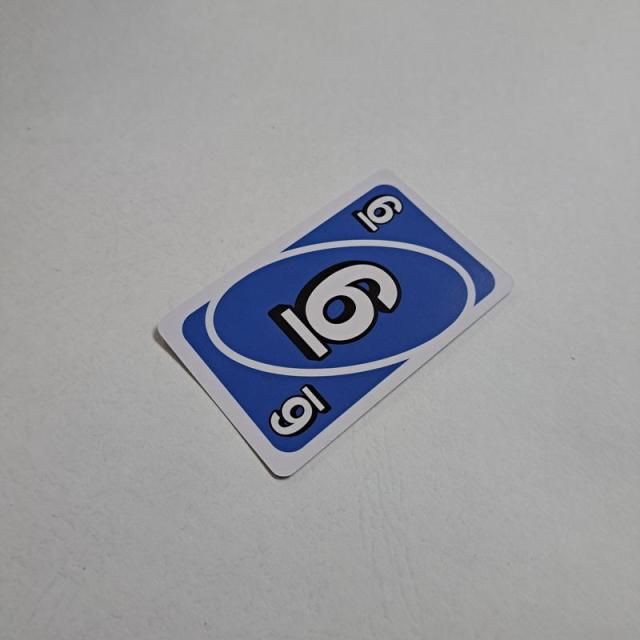Blue_Card: (178, 180, 502, 459)
Number_6: (350, 190, 408, 233)
